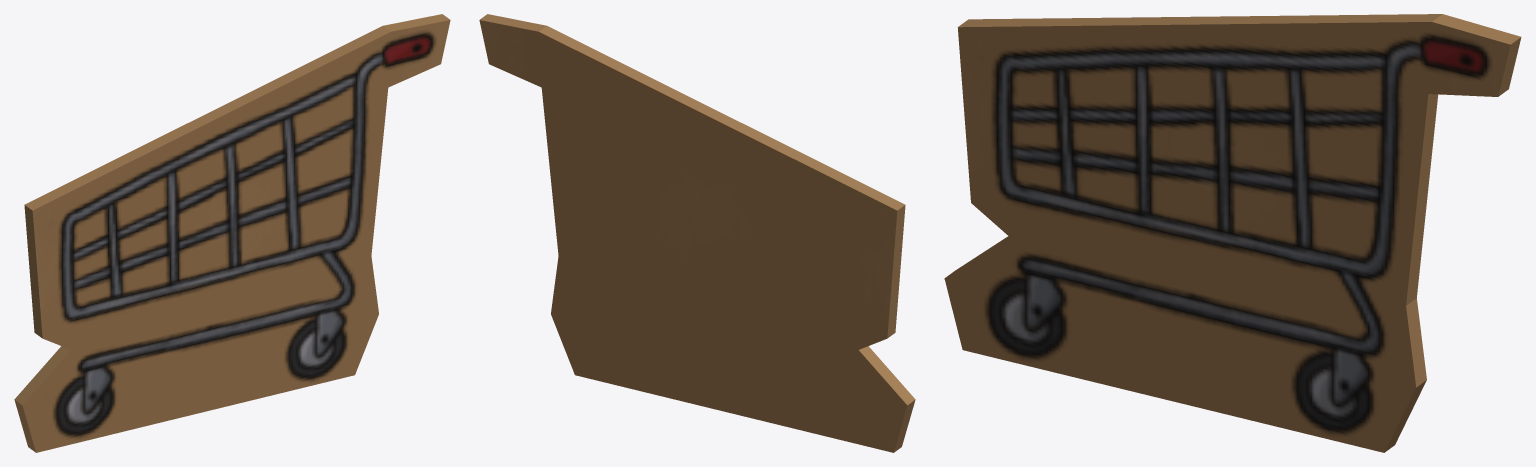
File: SM_Caddie_VF.fbx
3 views of the same model, side by side, from view 1: azimuth 30°, elevation 25°; view 2: azimuth 150°, elevation 25°; view 3: azimuth 330°, elevation 25° (orthographic). The views are drawn at different scales.
Parts seen in each view (by area): view 1: Caddie; view 2: Caddie; view 3: Caddie.
Part boxes in pixels (x1=…): Caddie: x1=14, y1=14, x2=450, y2=452; Caddie: x1=479, y1=14, x2=915, y2=452; Caddie: x1=944, y1=14, x2=1521, y2=452.
Size of the model in its own units: 169 by 127 by 5.59.
